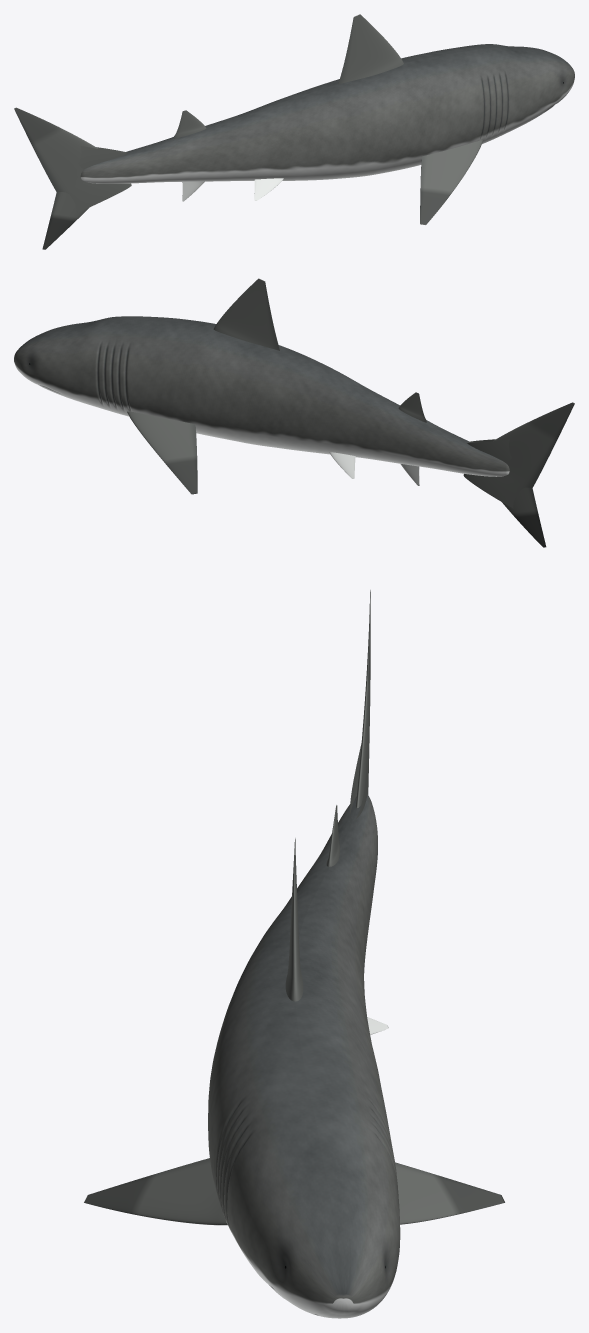
Rendered from dusky_shark.glb.
The picture shows the model from 3 angles, top to bottom: view 1: azimuth 30°, elevation 25°; view 2: azimuth 150°, elevation 25°; view 3: azimuth 270°, elevation 25°; orthographic projection. The views are drawn at different scales.
Visible parts, largest first — view 1: dusky_shark_Body, dusky_shark_Fins; view 2: dusky_shark_Body, dusky_shark_Fins; view 3: dusky_shark_Body, dusky_shark_Fins.
Part boxes in pixels (x1=…): dusky_shark_Body: x1=80, y1=44, x2=574, y2=183; dusky_shark_Fins: x1=14, y1=14, x2=482, y2=249; dusky_shark_Body: x1=14, y1=316, x2=509, y2=476; dusky_shark_Fins: x1=127, y1=278, x2=574, y2=547; dusky_shark_Body: x1=208, y1=794, x2=400, y2=1318; dusky_shark_Fins: x1=84, y1=590, x2=504, y2=1225.
Size of the model in its own units: 3.2 by 0.9799 by 1.06.
3 materials, 1 textured.
